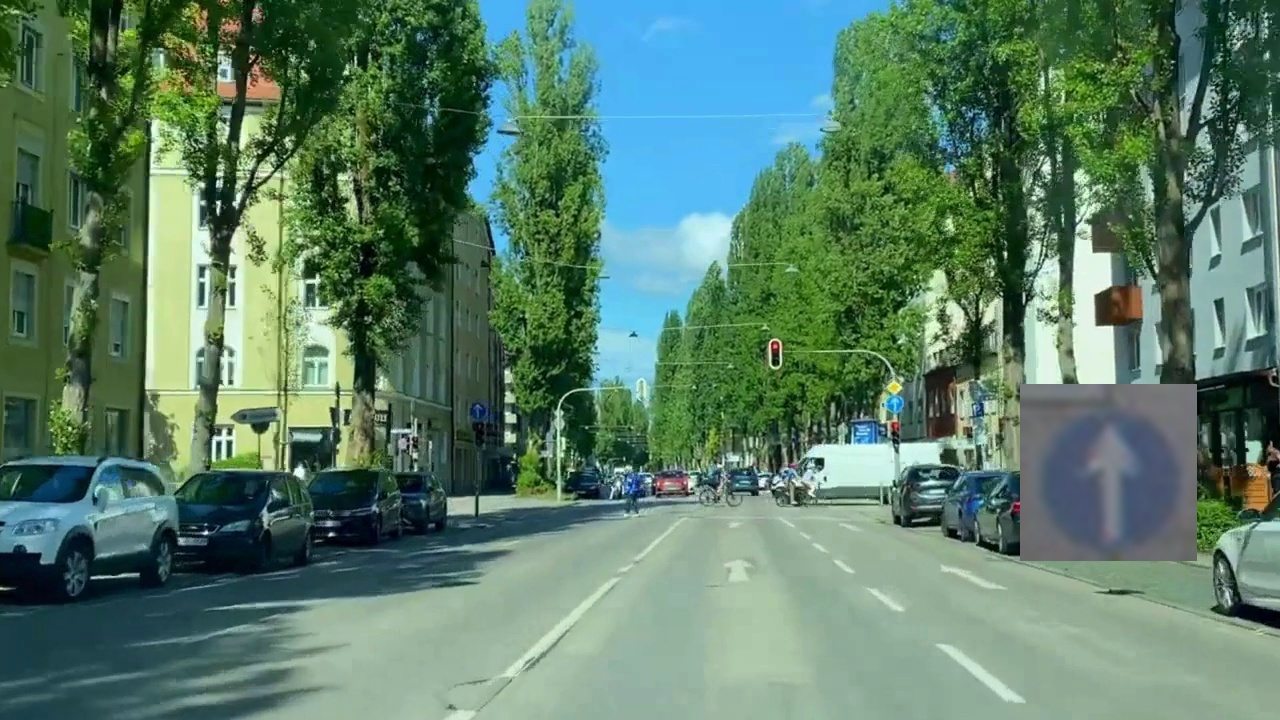Ahead only: (1020, 384, 1197, 561)
